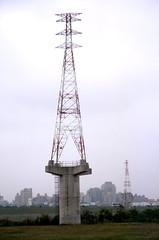power_tower: (51, 12, 92, 165)
